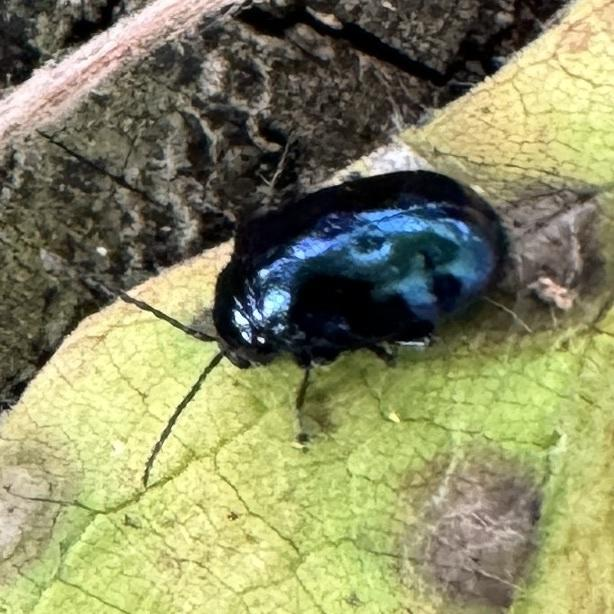flea_beetle: (0, 54, 614, 559)
